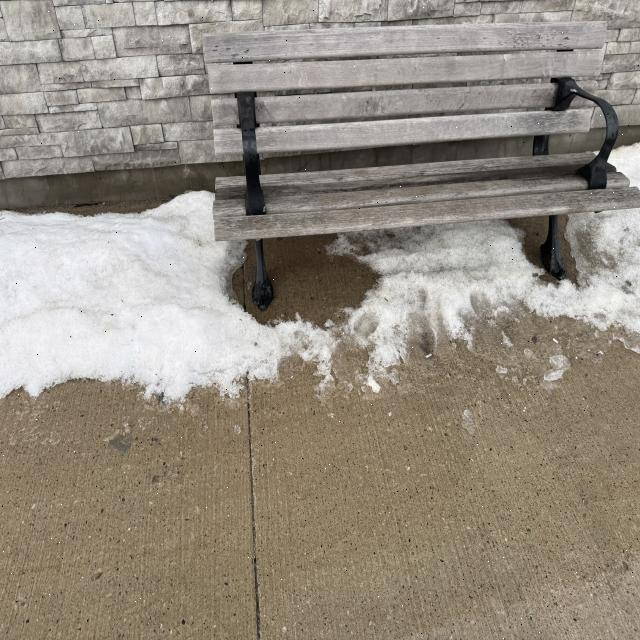Bench: (195, 27, 640, 301)
